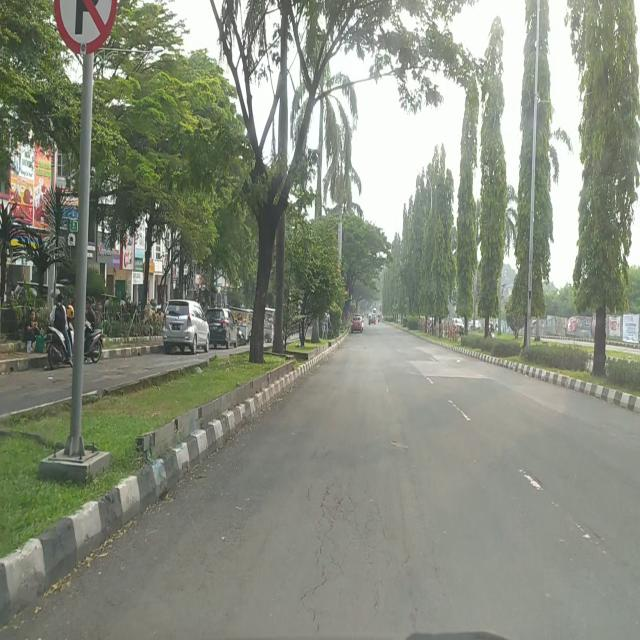Drain Hole: (310, 478, 397, 584)
